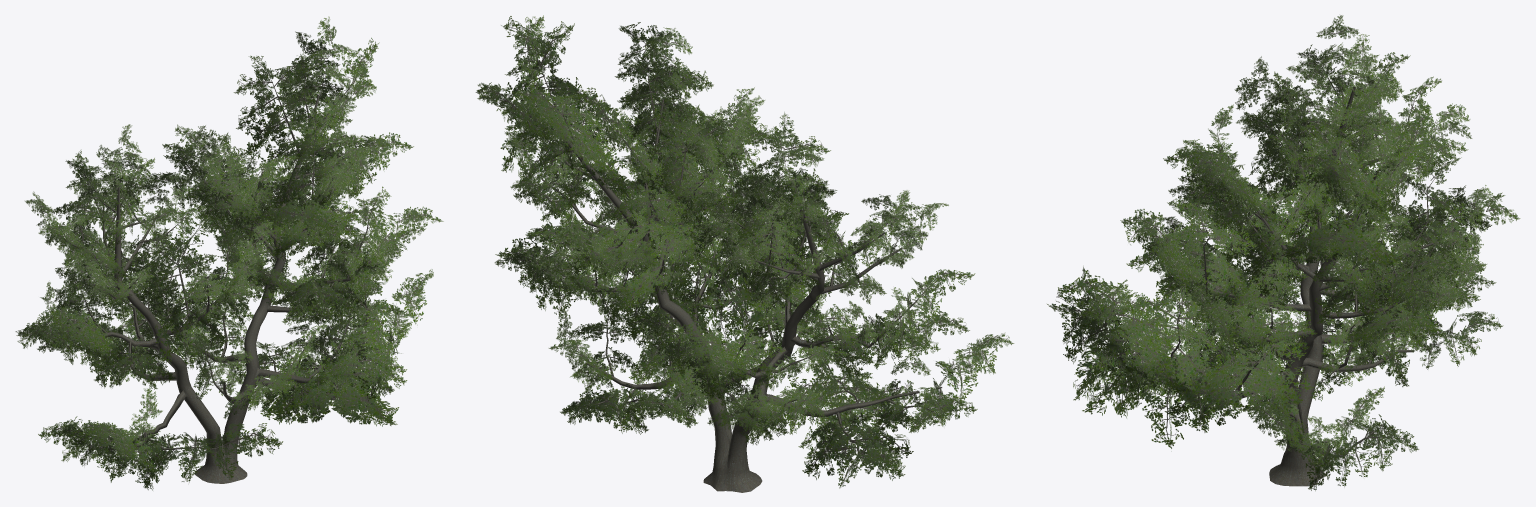
File: oak_large_3.glb
3 views of the same model, side by side, from view 1: azimuth 30°, elevation 25°; view 2: azimuth 150°, elevation 25°; view 3: azimuth 270°, elevation 25° (orthographic). The views are drawn at different scales.
Visible parts, largest first — view 1: Large_oak_tree_003_LOD1_Cluster_Mat_0, Large_oak_tree_003_LOD1_Bark_Mat_0; view 2: Large_oak_tree_003_LOD1_Cluster_Mat_0, Large_oak_tree_003_LOD1_Bark_Mat_0; view 3: Large_oak_tree_003_LOD1_Cluster_Mat_0, Large_oak_tree_003_LOD1_Bark_Mat_0.
Boxes of the visible parts, box(x1,y1,x2,y2) form: Large_oak_tree_003_LOD1_Cluster_Mat_0: box(15, 16, 443, 490); Large_oak_tree_003_LOD1_Bark_Mat_0: box(55, 80, 377, 483); Large_oak_tree_003_LOD1_Cluster_Mat_0: box(475, 15, 1013, 488); Large_oak_tree_003_LOD1_Bark_Mat_0: box(534, 64, 933, 492); Large_oak_tree_003_LOD1_Cluster_Mat_0: box(1047, 15, 1520, 490); Large_oak_tree_003_LOD1_Bark_Mat_0: box(1136, 67, 1441, 486).
Bounding box in the file's own units: 28.47 × 27.88 × 25.78.
2 materials, 2 textured.
